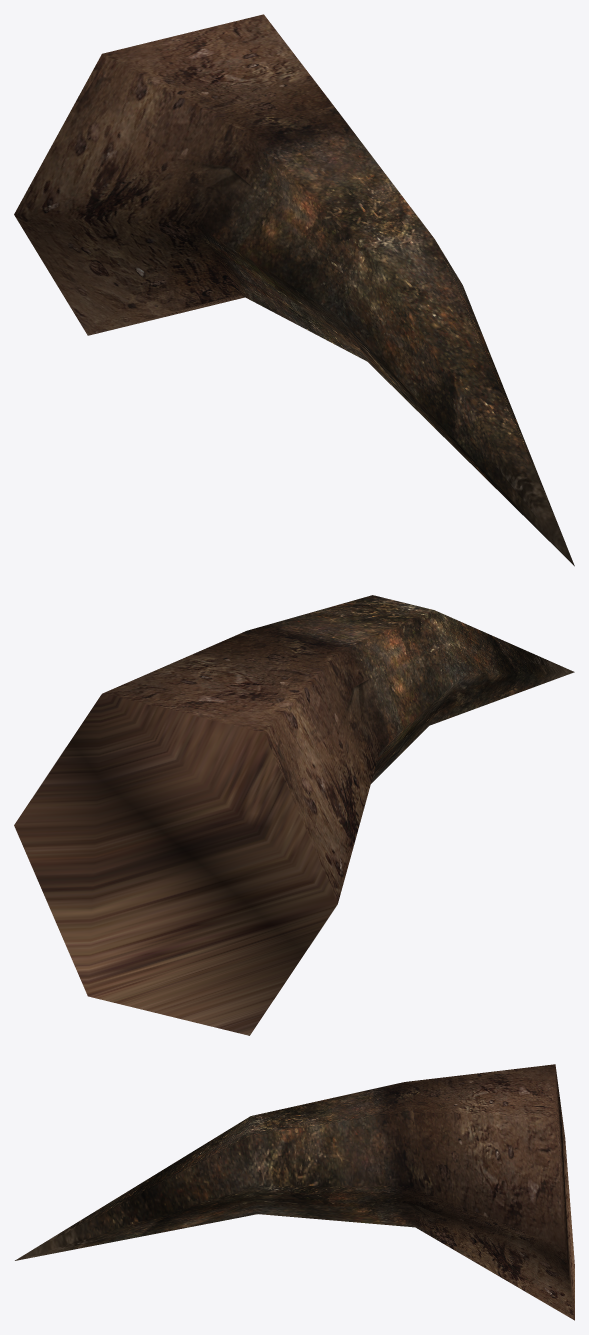
File: stalagmite_03.obj
3 renders of one model, top to bottom at view 1: azimuth 30°, elevation 25°; view 2: azimuth 150°, elevation 25°; view 3: azimuth 270°, elevation 25°, orthographic. The views are drawn at different scales.
Visible parts, largest first — view 1: (null); view 2: (null); view 3: (null).
Part boxes in pixels (left/top/right/bottom): (null): left=14, top=14, right=574, bottom=566; (null): left=14, top=595, right=574, bottom=1035; (null): left=15, top=1064, right=574, bottom=1320.
Size of the model in its own units: 3.81 by 3.29 by 8.28.
